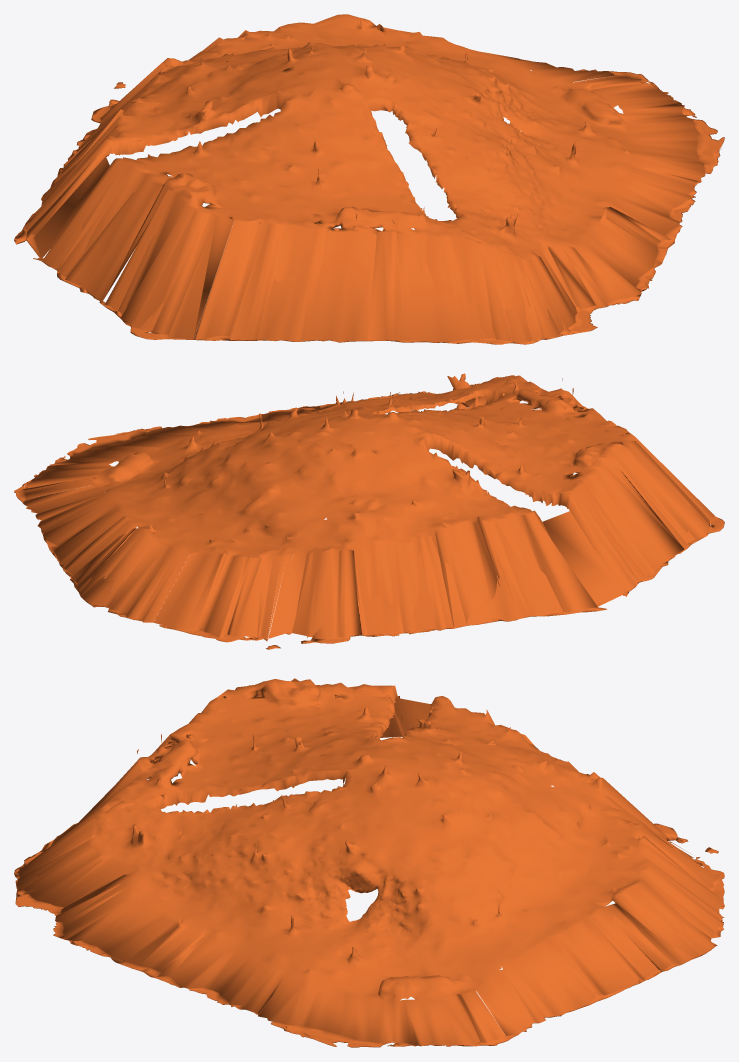
Rendered from MoundTrasparenteSUPERredo.fbx.
3 renders of one model, top to bottom at view 1: azimuth 30°, elevation 25°; view 2: azimuth 150°, elevation 25°; view 3: azimuth 270°, elevation 25°, orthographic. The views are drawn at different scales.
Parts seen in each view (by area): view 1: Tumulo02; view 2: Tumulo02; view 3: Tumulo02.
Boxes of the visible parts, box(x1,y1,x2,y2) form: Tumulo02: box(14, 14, 724, 344); Tumulo02: box(14, 373, 724, 649); Tumulo02: box(14, 678, 724, 1047).
Size of the model in its own units: 3594 by 703 by 3527.
